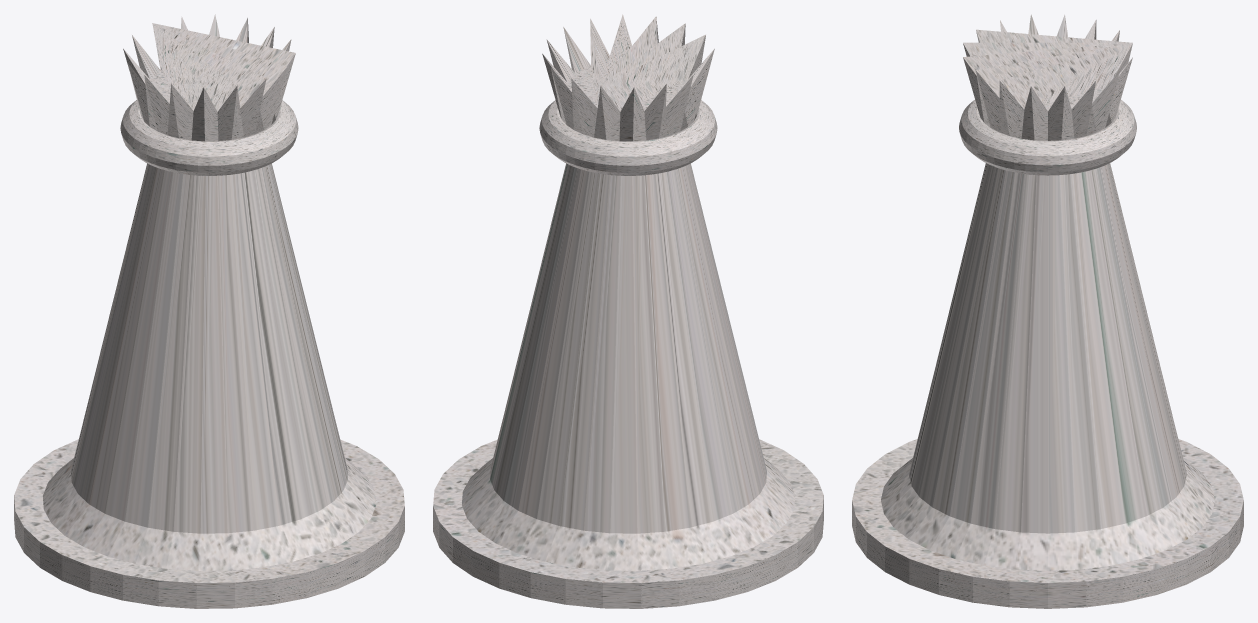
Rendered from WhiteQueen.fbx.
3 renders of one model, left to right at view 1: azimuth 30°, elevation 25°; view 2: azimuth 150°, elevation 25°; view 3: azimuth 270°, elevation 25°, orthographic.
Parts seen in each view (by area): view 1: Cylinder; view 2: Cylinder; view 3: Cylinder.
Boxes of the visible parts, box(x1,y1,x2,y2) form: Cylinder: box(14, 14, 404, 608); Cylinder: box(433, 14, 823, 608); Cylinder: box(852, 14, 1243, 608).
Size of the model in its own units: 200 by 268 by 200.
